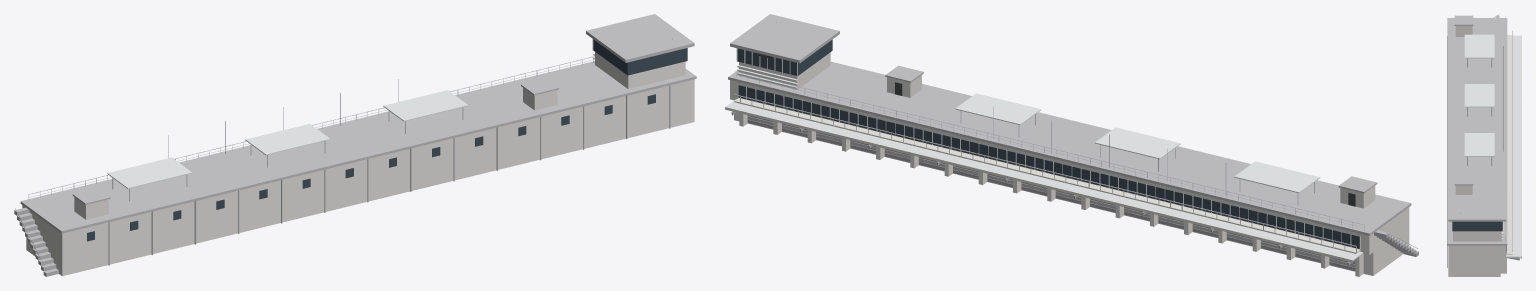
File: spa_pits.glb
The picture shows the model from 3 angles, left to right: view 1: azimuth 30°, elevation 25°; view 2: azimuth 150°, elevation 25°; view 3: azimuth 270°, elevation 25°; orthographic projection. The views are drawn at different scales.
Parts seen in each view (by area): view 1: pit_building; view 2: pit_building; view 3: pit_building.
Boxes of the visible parts, box(x1,y1,x2,y2) form: pit_building: box(14, 14, 696, 276); pit_building: box(725, 14, 1418, 276); pit_building: box(1447, 14, 1521, 276).
Size of the model in its own units: 112 by 13.45 by 15.45.
